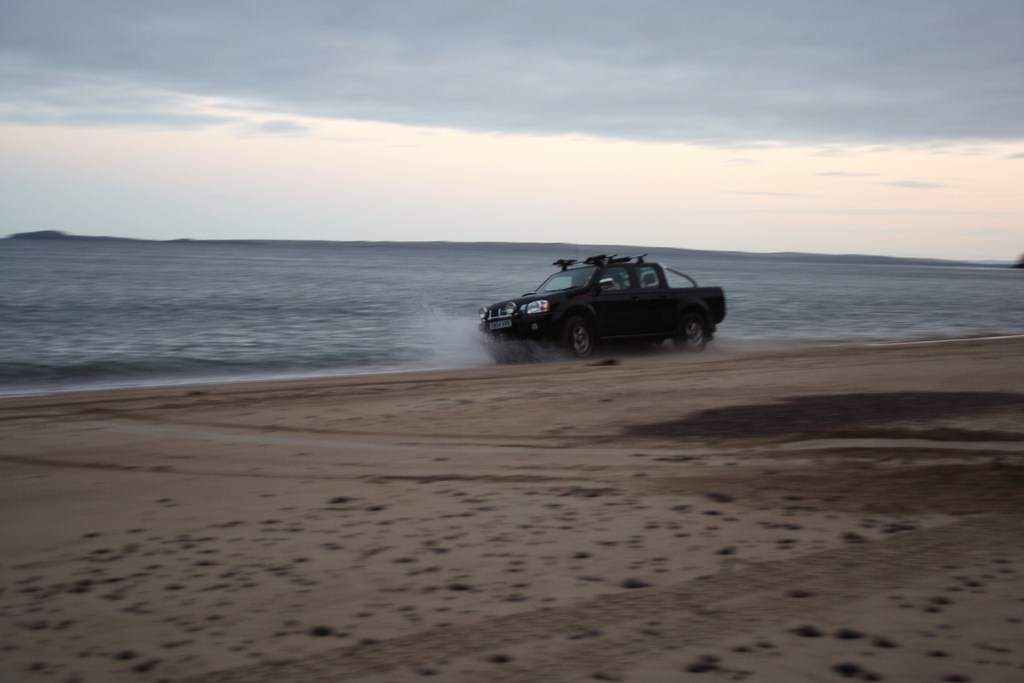mobil: (476, 250, 736, 371)
